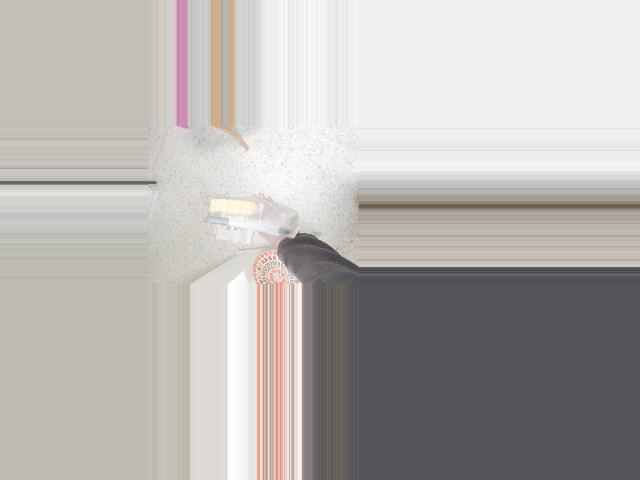cheese: (206, 195, 296, 237)
